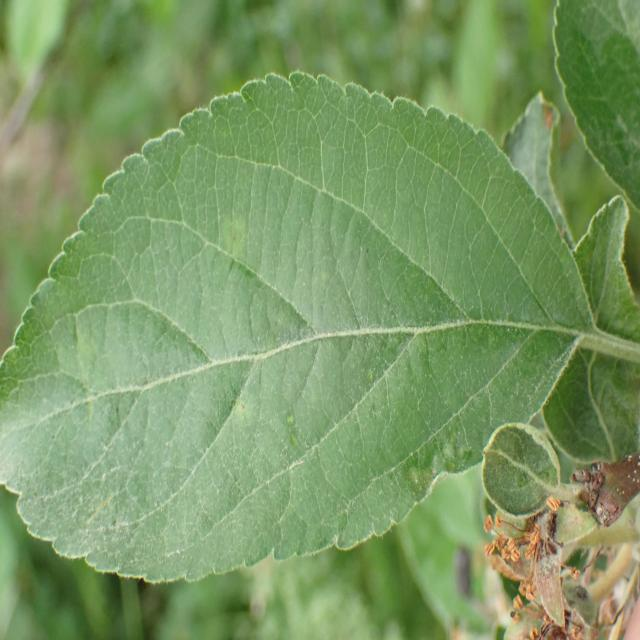scab: (71, 189, 558, 535)
